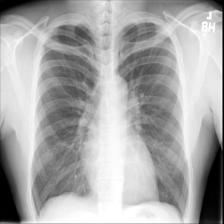normal: (25, 14, 196, 221)
